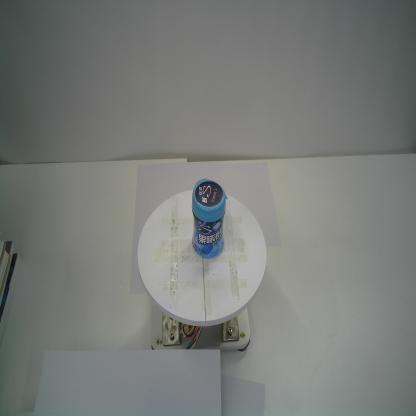Gum: (191, 178, 228, 260)
